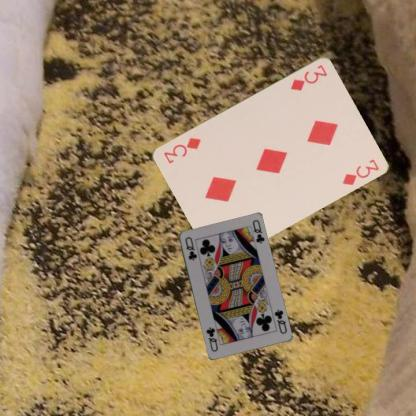3d: (288, 61, 328, 92)
Qc: (272, 307, 288, 335), (183, 234, 198, 262)
